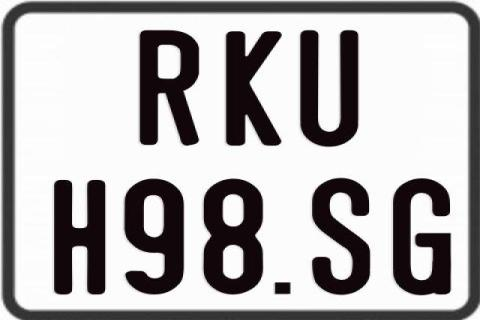0: (125, 176, 188, 294), (203, 178, 265, 294)
G: (390, 176, 448, 296)
H: (51, 177, 107, 293)
K: (225, 29, 286, 145)
R: (139, 31, 201, 146)
S: (309, 178, 371, 294)
U: (298, 28, 360, 146)
